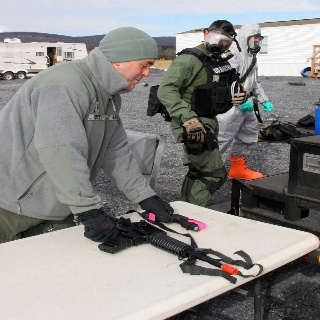rifle: (95, 210, 241, 282)
